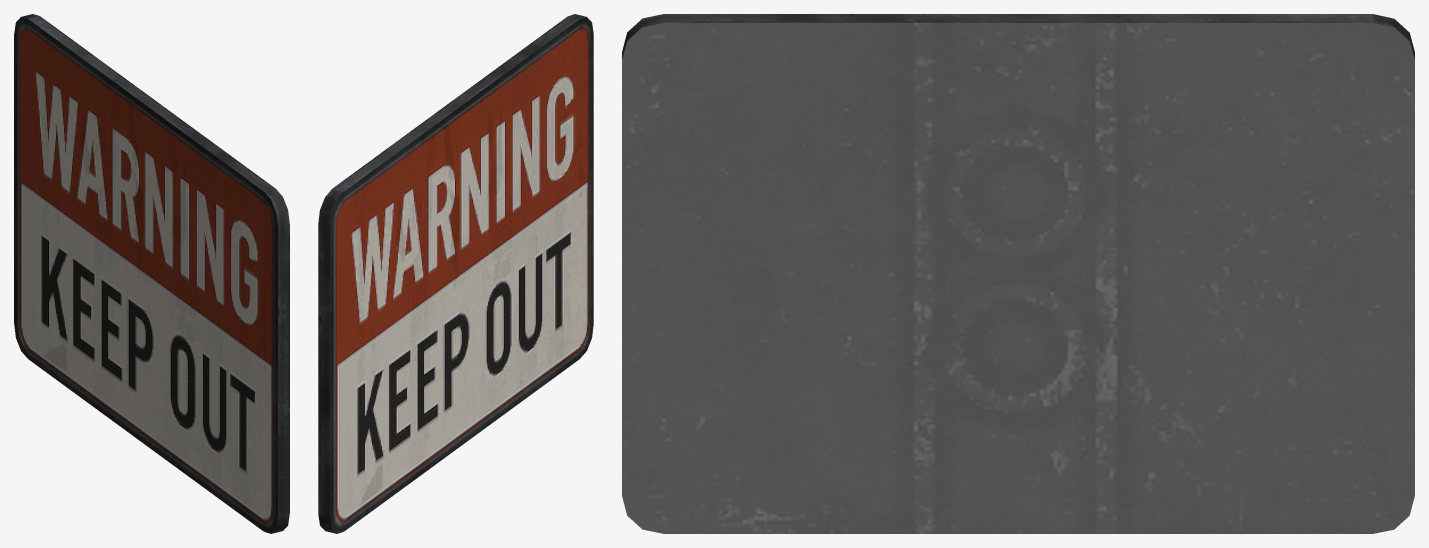
The model's file is HH_Sign_Warning.fbx.
3 views of the same model, side by side, from view 1: azimuth 30°, elevation 25°; view 2: azimuth 150°, elevation 25°; view 3: azimuth 270°, elevation 25° (orthographic). The views are drawn at different scales.
Visible parts, largest first — view 1: HH_Sign_Warning; view 2: HH_Sign_Warning; view 3: HH_Sign_Warning.
Part boxes in pixels (left/top/right/bottom): HH_Sign_Warning: left=14, top=14, right=289, bottom=533; HH_Sign_Warning: left=318, top=14, right=593, bottom=533; HH_Sign_Warning: left=622, top=14, right=1414, bottom=533.
Bounding box in the file's own units: 1.7 × 46.38 × 65.19.
